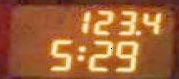-: (134, 29, 140, 35)
1: (79, 10, 89, 32)
2: (86, 38, 112, 71), (91, 9, 112, 34)
3: (115, 10, 134, 34)
4: (141, 11, 161, 34)
5: (47, 39, 72, 70)
9: (112, 38, 137, 71)
X: (74, 44, 84, 60)
